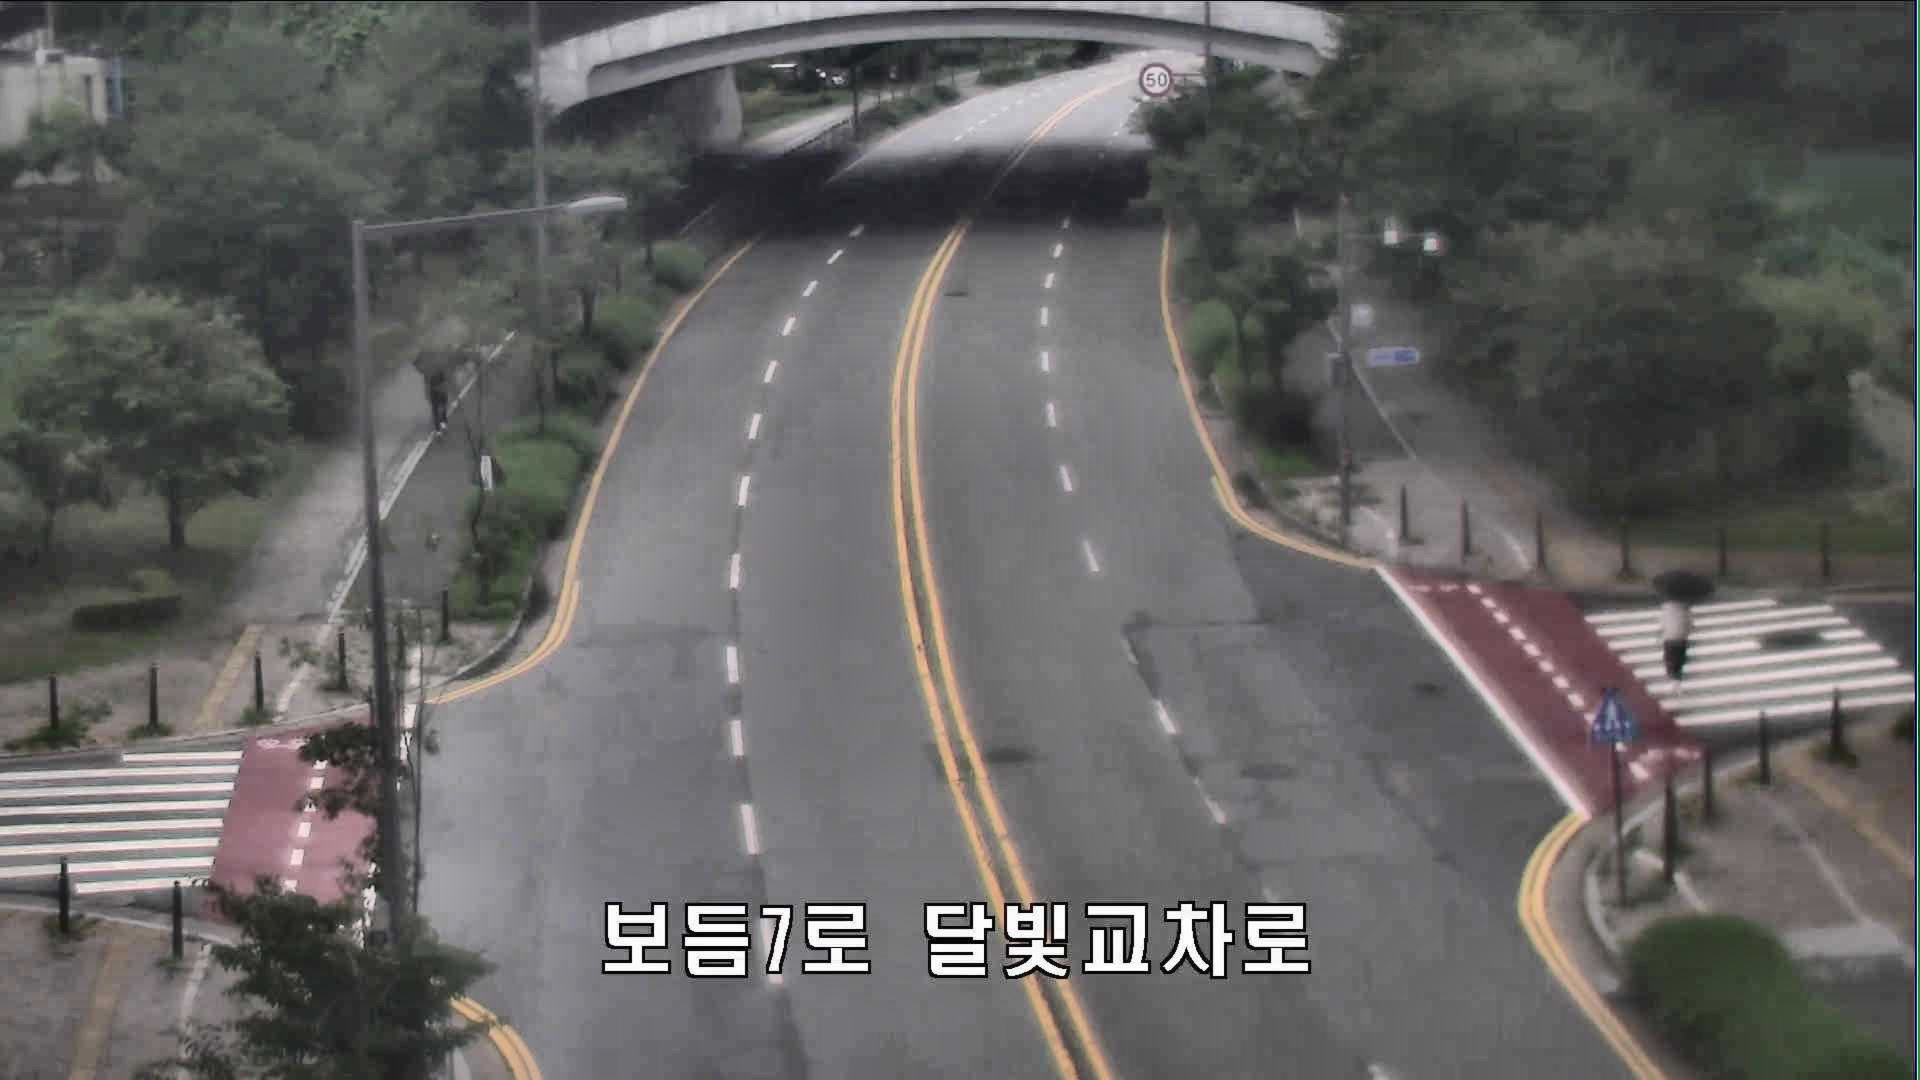um_crosswalk: (1647, 568, 1706, 696)
um_sidewalk: (407, 342, 463, 442)
